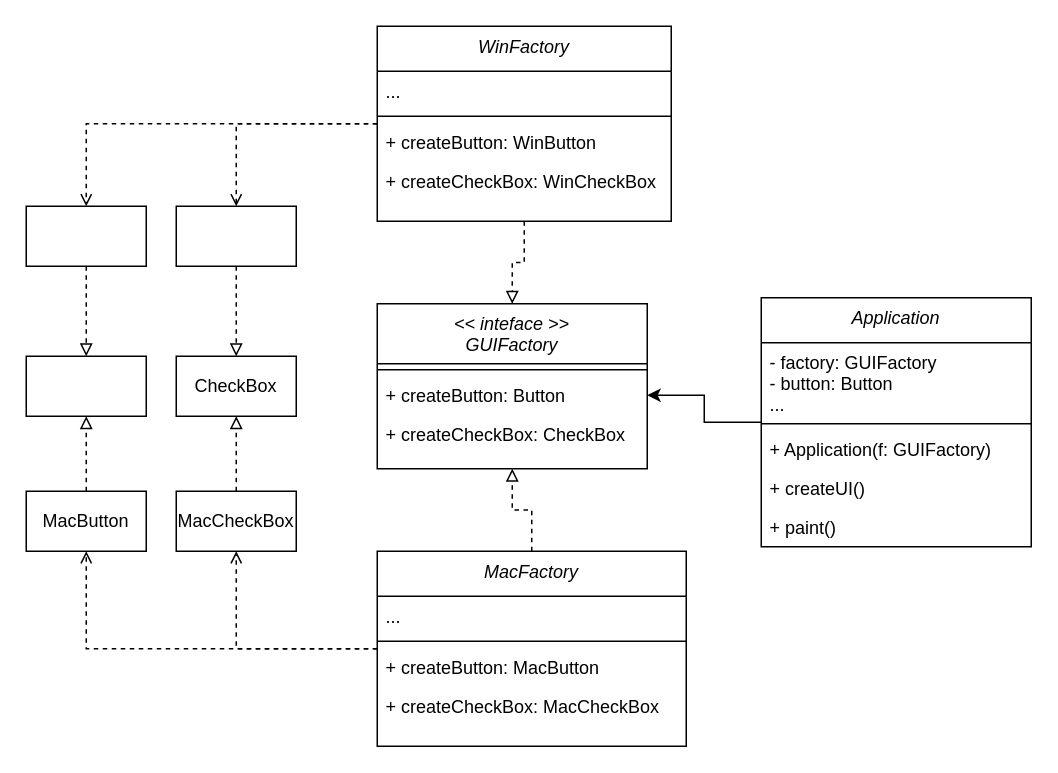
Some shapes in this 1058 by 773 pixel diagram are drawn without their labels. Here are the shapes that lost their labels. From the top down, the centre of each, then its label:
At point 85,235: "WinButton".
At point 235,235: "WinCheckBox".
At point 85,385: "Button".
